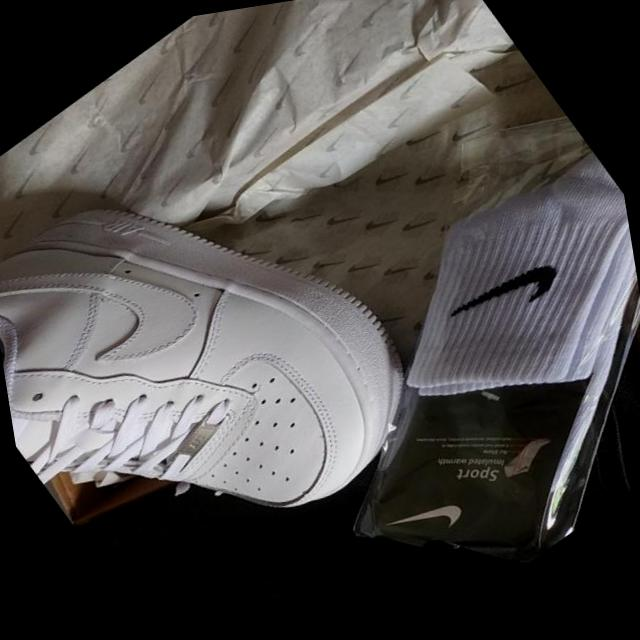nike_fake_airforce: (0, 62, 482, 640)
